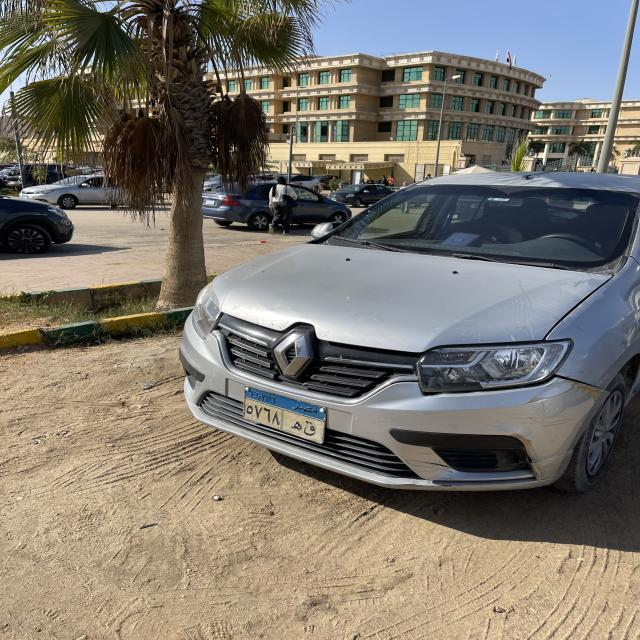License Plate: (242, 385, 328, 445), (205, 198, 216, 205)
